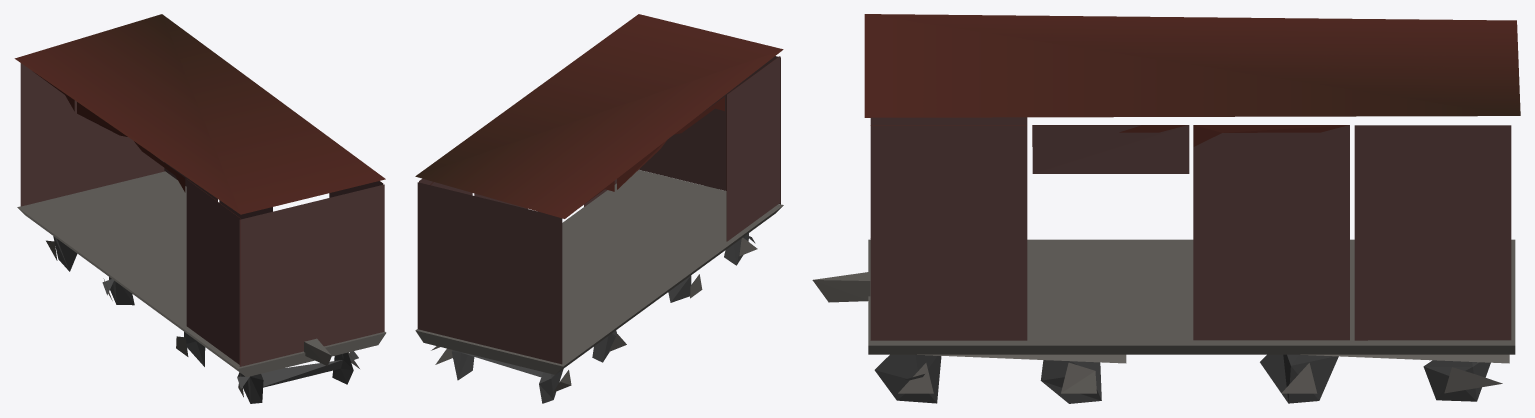
File: boxcar.lod-v1.lod2.glb
3 renders of one model, left to right at view 1: azimuth 30°, elevation 25°; view 2: azimuth 150°, elevation 25°; view 3: azimuth 270°, elevation 25°, orthographic. The views are drawn at different scales.
Size of the model in its own units: 4.67 by 6.31 by 13.
